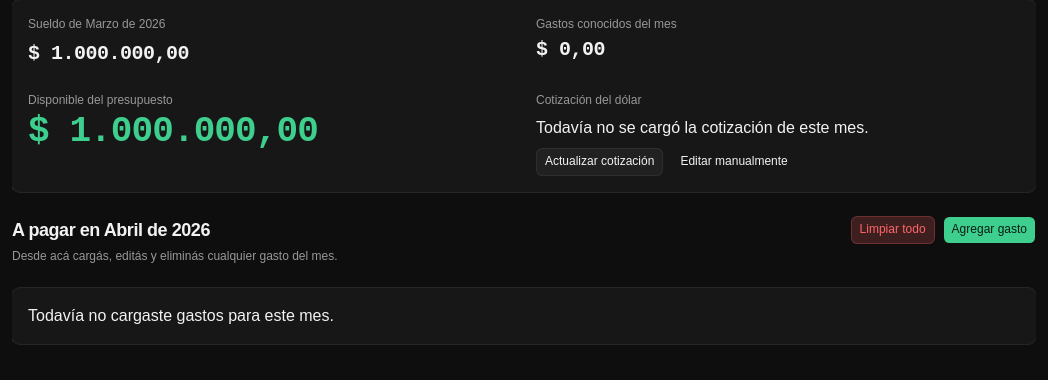
it: MonthlyBudgetPage › al cancelar la edición del sueldo, vuelve a mostrar el valor guardado
Click the button "$ 1.000.000,00". click: (108, 54)
box: [28,40,189,68]
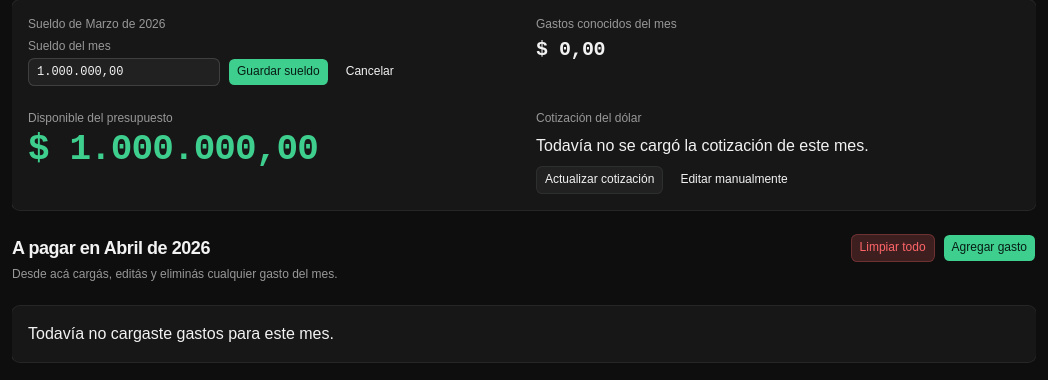
Replace the text in the field labelled "Sueldo del mes" with "9999". click: (124, 72)
box: [28,58,220,86]
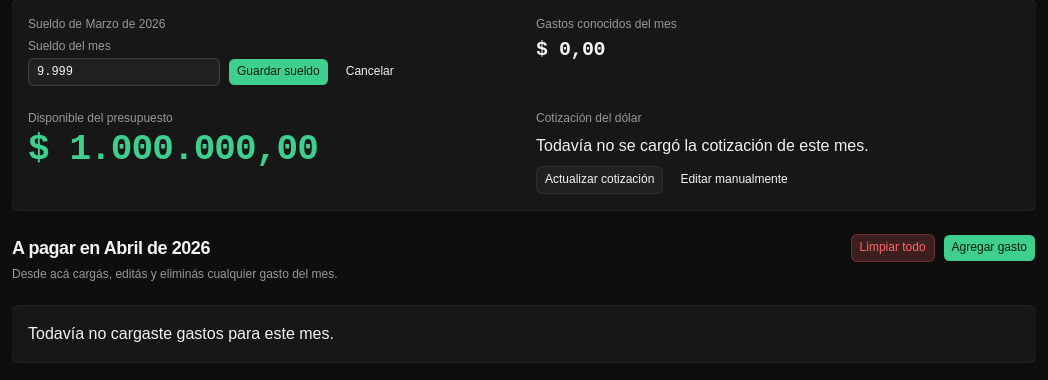
Click the button "Cancelar". click: (370, 72)
box: [337,58,403,86]
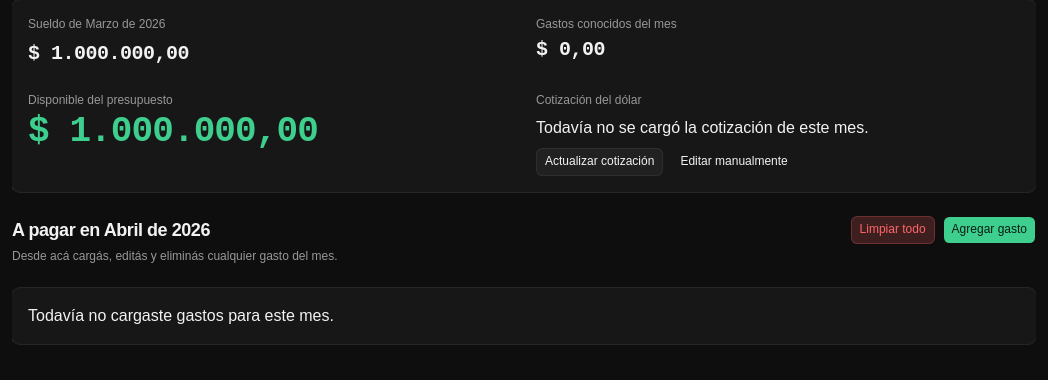
Result: the label labelled "Sueldo del mes" is gone
Result: the button "$ 1.000.000,00" is shown at [28,40,189,68]
